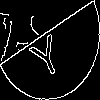Y: (25, 25, 66, 81)
